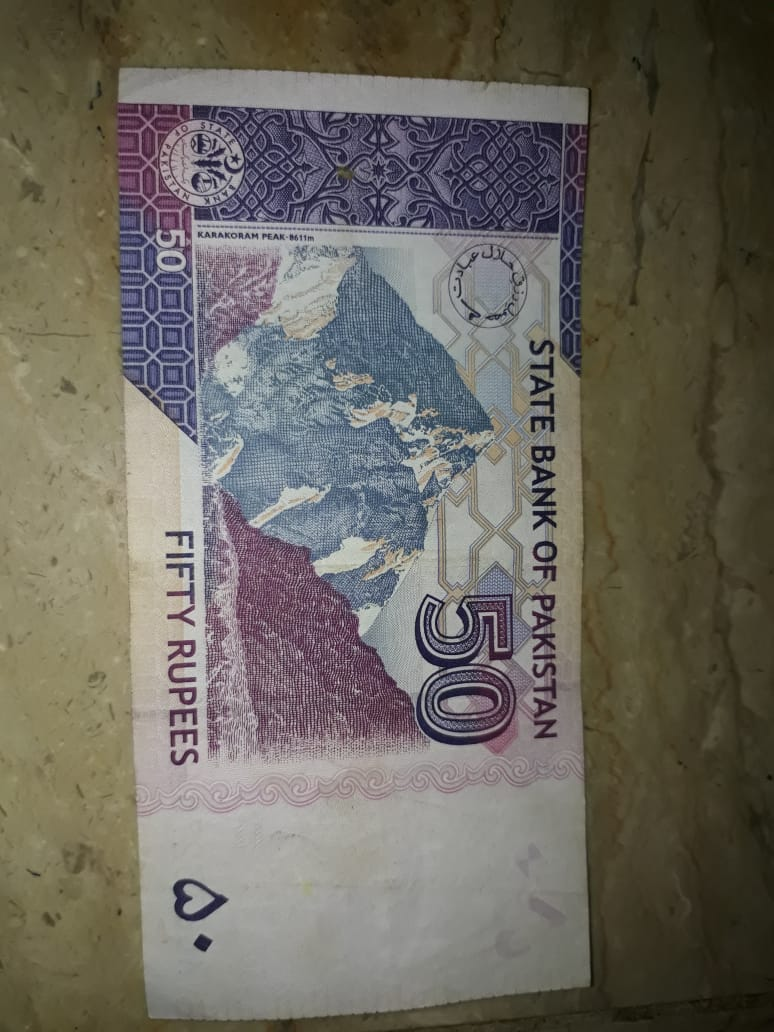50 rupee: (88, 59, 659, 1032)
